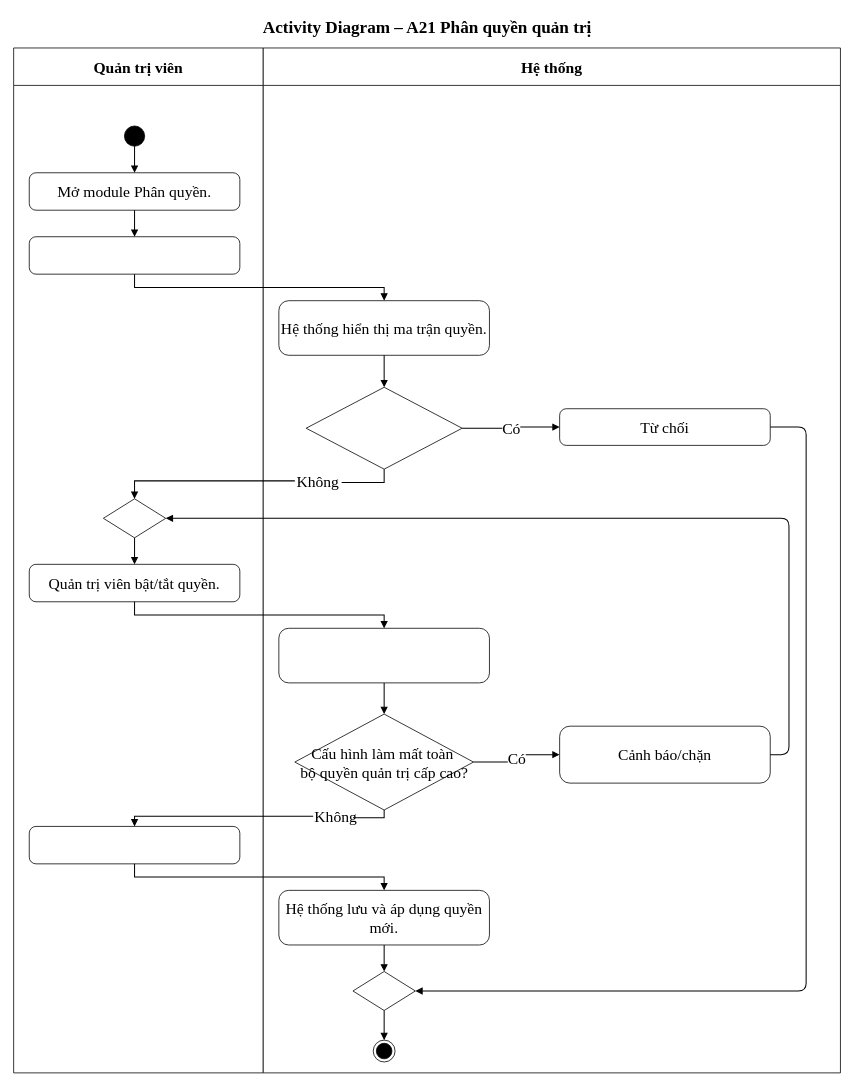
Image size: 854x1087. Some labels were removed from this diagram. Here are the shapes that lost their labels. From the top down, the centre of each, then its label:
the point at 134,255: Chọn vai trò hoặc tài khoản.
the point at 383,427: Không đủ quyền chỉnh vai trò mục tiêu?
the point at 383,655: Hệ thống kiểm tra xung đột/nguyên tắc an toàn.
the point at 134,845: Quản trị viên xác nhận.
